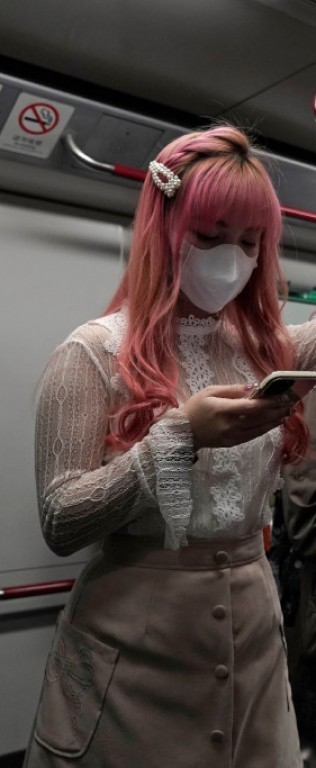with_mask: (145, 151, 284, 321)
